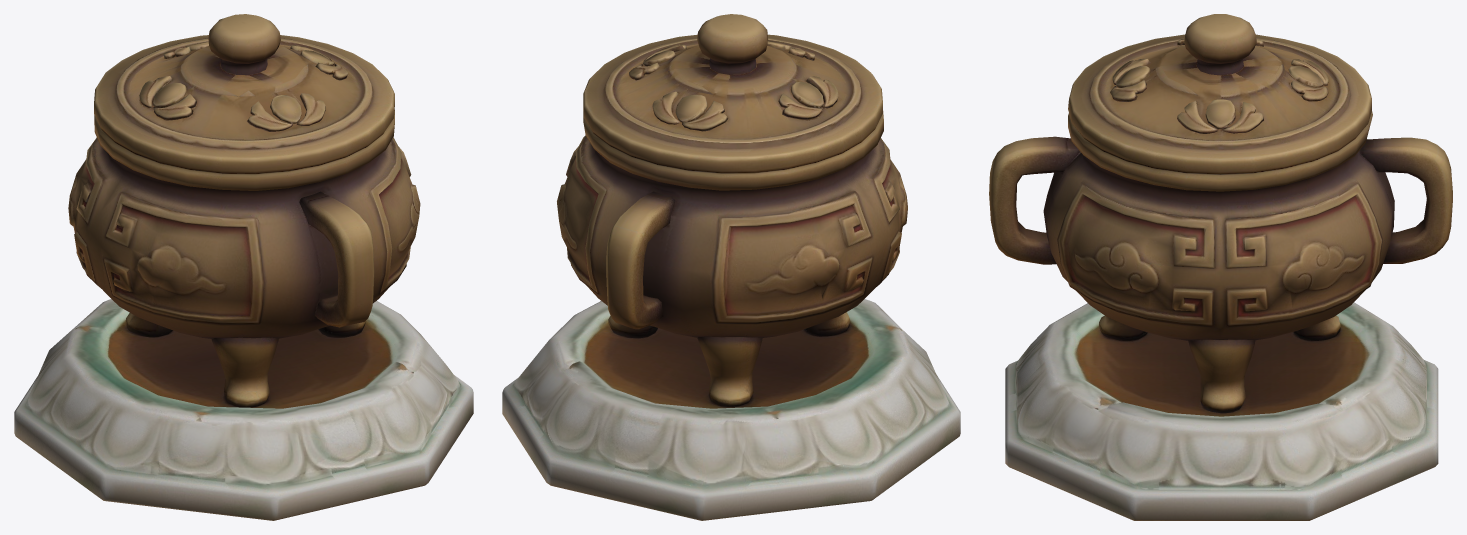
File: tripo_convert_13043359-618e-4e8e-8cfc-a104661ab75c.fbx
The picture shows the model from 3 angles, left to right: view 1: azimuth 30°, elevation 25°; view 2: azimuth 150°, elevation 25°; view 3: azimuth 270°, elevation 25°; orthographic projection.
Visible parts, largest first — view 1: tripo_node_13043359; view 2: tripo_node_13043359; view 3: tripo_node_13043359.
Boxes of the visible parts, bbox=[...] form: tripo_node_13043359: bbox=[14, 14, 473, 520]; tripo_node_13043359: bbox=[502, 14, 960, 520]; tripo_node_13043359: bbox=[989, 14, 1452, 520].
Bounding box in the file's own units: 0.9316 × 0.9668 × 0.998.
1 material, 1 textured.
